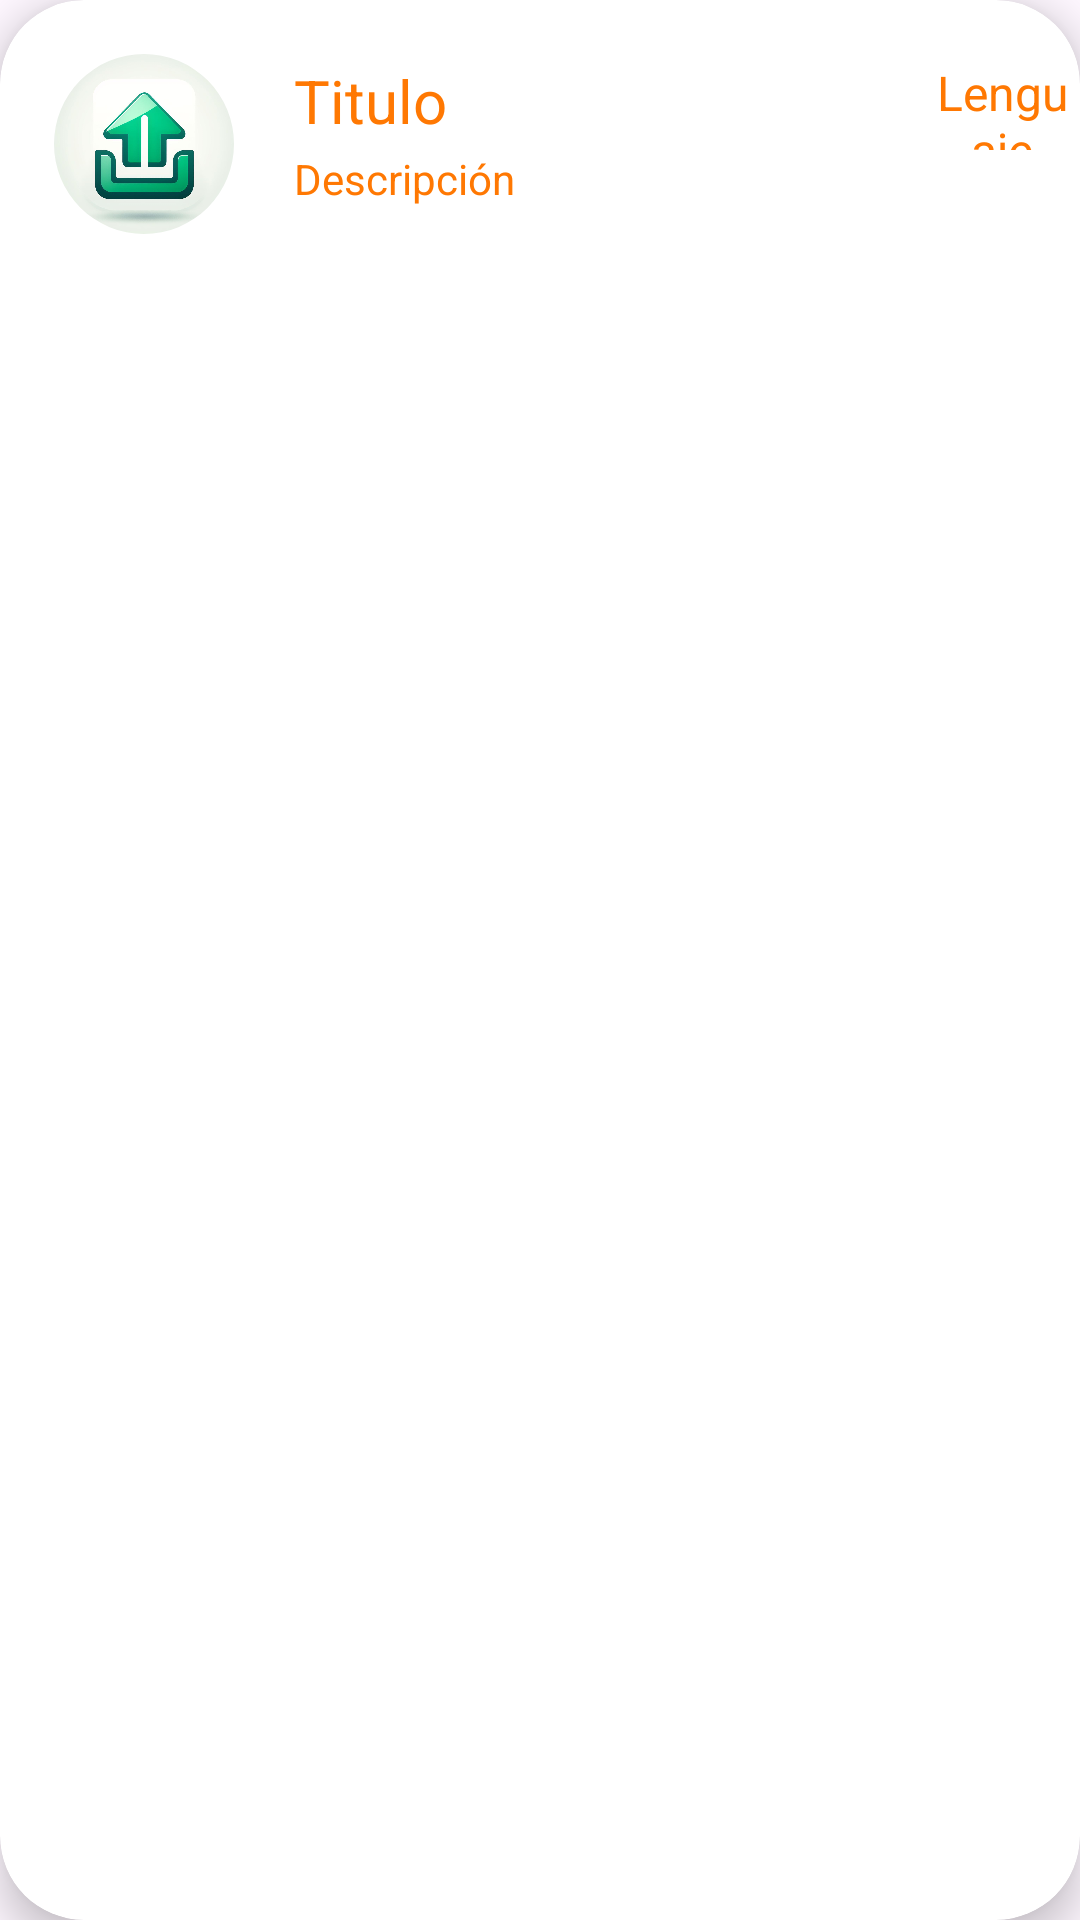

Where icons sit on this 1080px×1920px app screen, as (x1, y1, x2, y2):
subir: (56, 92, 204, 234)
